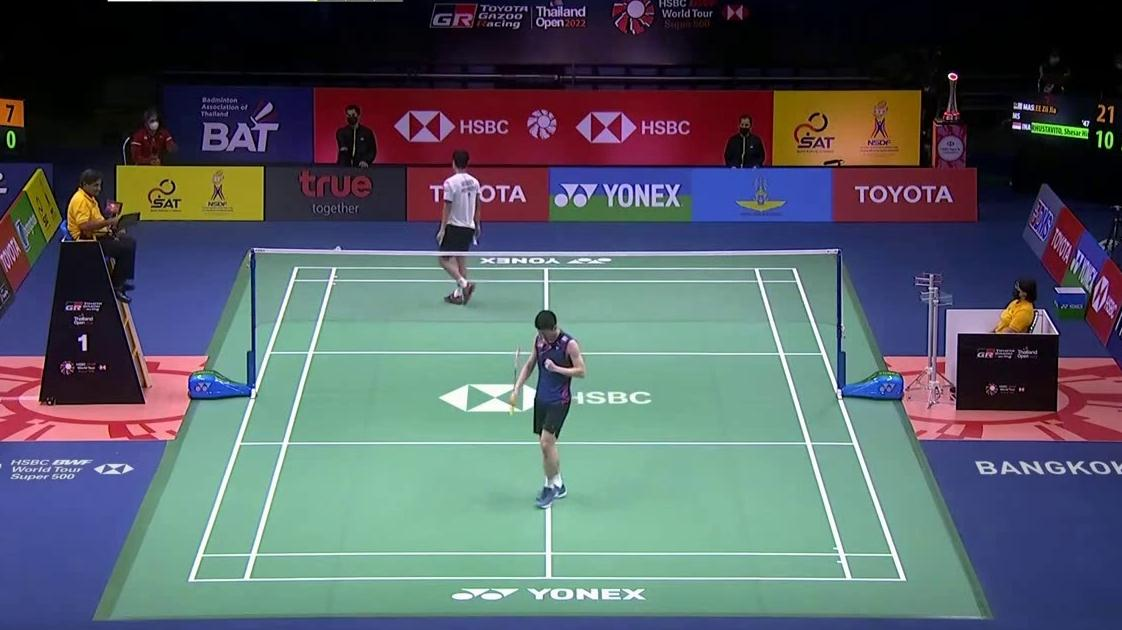racket: (508, 345, 524, 419), (472, 232, 479, 247)
shuttle: (334, 245, 342, 253)
